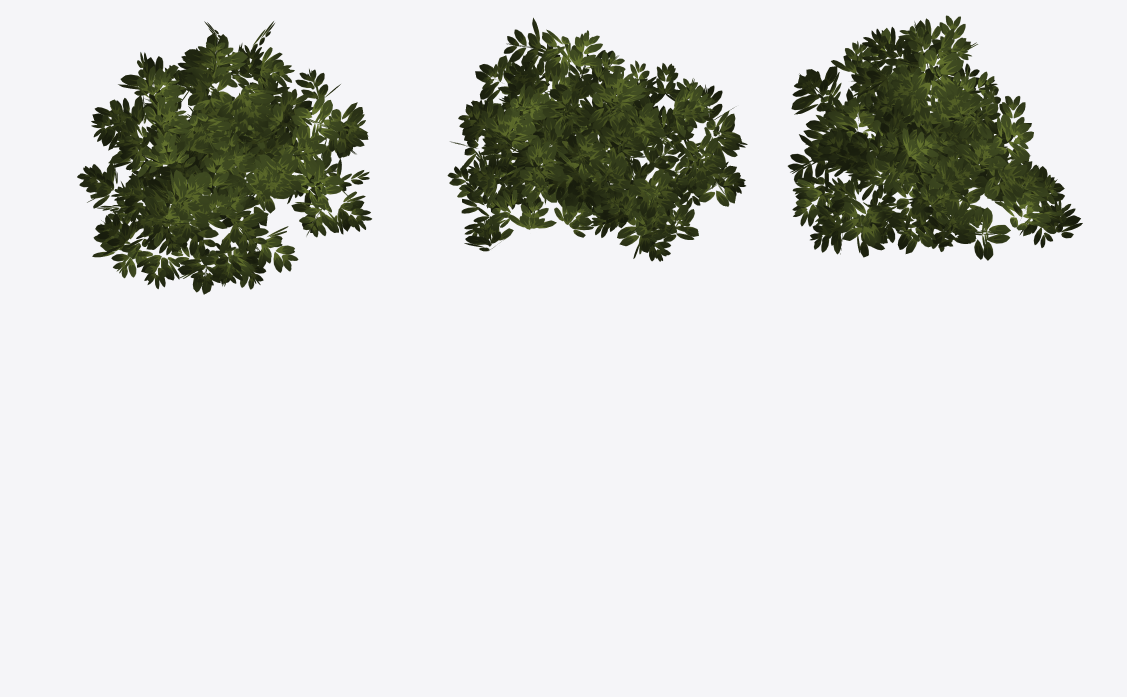
File: swp_Env_Tree_Mangrove_02.glb
3 renders of one model, left to right at view 1: azimuth 30°, elevation 25°; view 2: azimuth 150°, elevation 25°; view 3: azimuth 270°, elevation 25°, orthographic. The views are drawn at different scales.
Visible parts, largest first — view 1: SM_Env_Tree_Mangrove_02_LOD0; view 2: SM_Env_Tree_Mangrove_02_LOD0; view 3: SM_Env_Tree_Mangrove_02_LOD0.
Part boxes in pixels (x1=…): SM_Env_Tree_Mangrove_02_LOD0: x1=77, y1=21, x2=371, y2=294; SM_Env_Tree_Mangrove_02_LOD0: x1=447, y1=17, x2=747, y2=261; SM_Env_Tree_Mangrove_02_LOD0: x1=787, y1=15, x2=1082, y2=260.
Size of the model in its own units: 3.22 by 7.02 by 3.38.
Materials: 1 (1 with a texture image).
